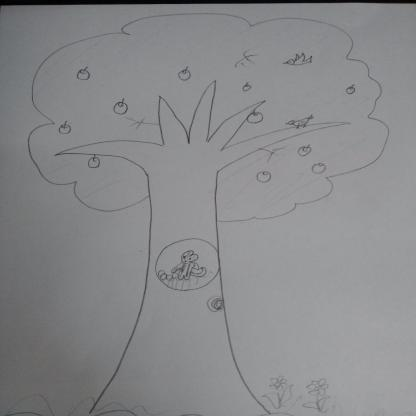apple: (108, 98, 132, 115), (73, 66, 95, 82), (308, 160, 330, 176), (246, 110, 265, 126), (56, 120, 76, 134), (340, 83, 360, 96), (88, 154, 104, 170), (298, 144, 316, 158), (177, 69, 194, 83), (255, 168, 271, 182), (242, 80, 255, 94)
bird: (281, 50, 317, 68), (282, 114, 318, 130)
branch_sharp: (46, 78, 354, 174)
crown_cloud: (21, 13, 391, 222)
knot: (204, 292, 228, 316)
trunk_straight: (132, 222, 231, 336)
